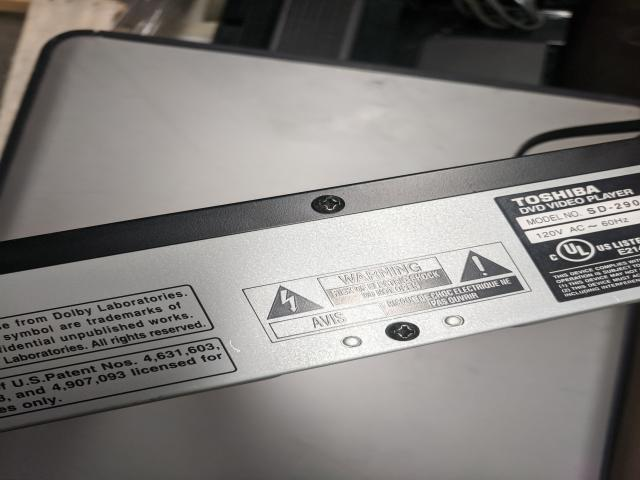CRS: (384, 321, 421, 342), (312, 194, 345, 215)
